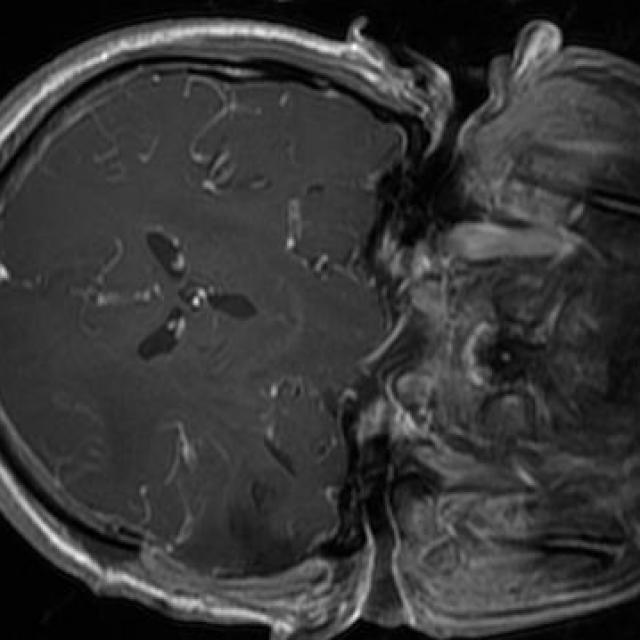glioma: (207, 471, 307, 578)
